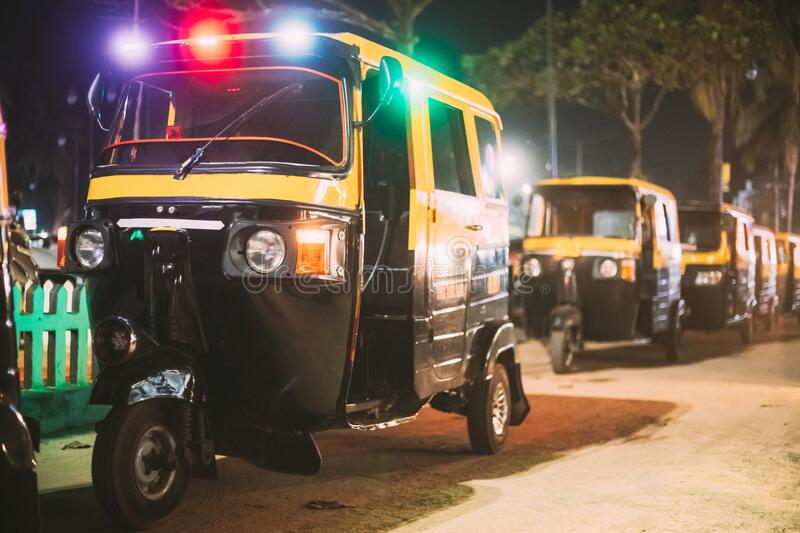rickshaw: (77, 21, 539, 493), (520, 165, 682, 375), (681, 185, 762, 348)
